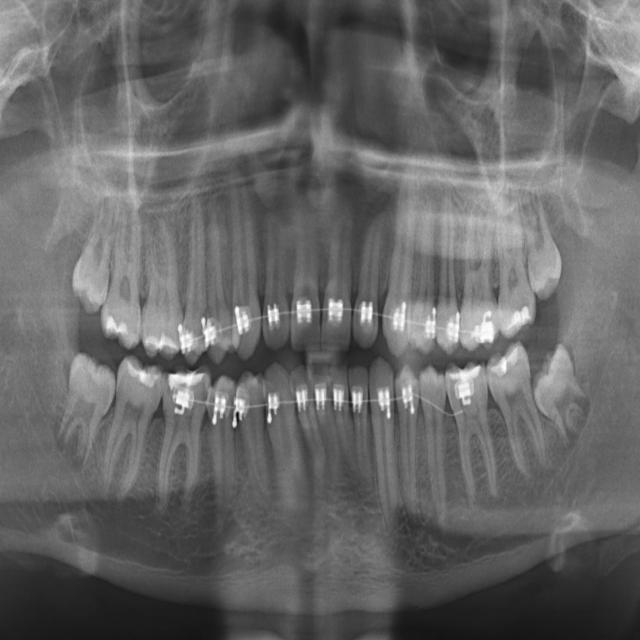CompositeResinRestoration: (121, 355, 160, 396), (491, 341, 520, 392), (449, 364, 485, 391), (145, 331, 179, 359), (166, 368, 205, 389), (104, 311, 128, 336)
DentalCaries: (512, 286, 535, 312), (502, 365, 518, 400), (196, 383, 212, 413)
